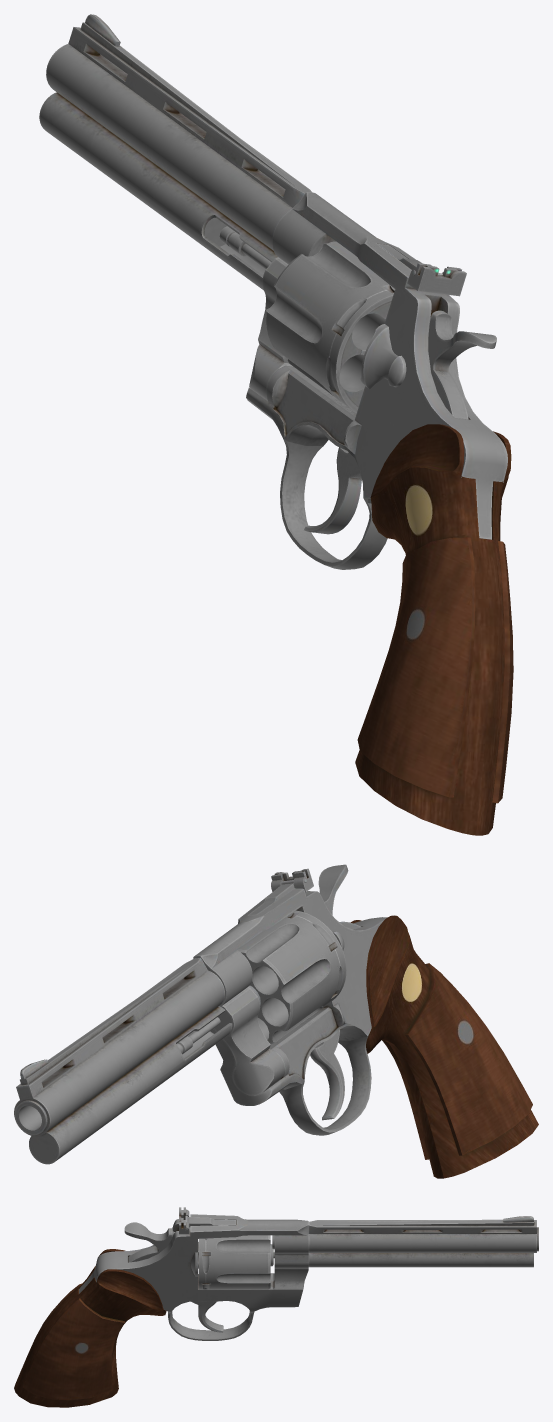
The picture shows the model from 3 angles, top to bottom: view 1: azimuth 30°, elevation 25°; view 2: azimuth 150°, elevation 25°; view 3: azimuth 270°, elevation 25°; orthographic projection. The views are drawn at different scales.
Parts seen in each view (by area): view 1: grip_low.001, barrel_low.001, body_low.001, wheel_low.001, Hammer_low.001, wheel_rot_low.001, trigger_low.001, slot_low.001, sight_low.001; view 2: grip_low.001, barrel_low.001, body_low.001, wheel_low.001, wheel_rot_low.001, trigger_low.001, Hammer_low.001, sight_low.001, handle_low.001, sight_fixed_low.001; view 3: grip_low.001, barrel_low.001, body_low.001, wheel_low.001, Hammer_low.001, trigger_low.001, sight_fixed_low.001, sight_low.001.
Boxes of the visible parts, x1,y1,x2,y2 form: grip_low.001: (355, 424, 513, 835); barrel_low.001: (39, 14, 311, 290); body_low.001: (246, 192, 507, 569); wheel_low.001: (265, 242, 395, 412); Hammer_low.001: (428, 310, 496, 419); wheel_rot_low.001: (249, 257, 292, 401); trigger_low.001: (304, 447, 361, 534); slot_low.001: (360, 324, 398, 389); sight_low.001: (407, 263, 466, 296); grip_low.001: (350, 915, 538, 1178); barrel_low.001: (14, 958, 232, 1164); body_low.001: (193, 888, 387, 1135); wheel_low.001: (238, 910, 346, 1044); wheel_rot_low.001: (214, 987, 285, 1095); trigger_low.001: (310, 1030, 344, 1120); Hammer_low.001: (318, 864, 360, 929); sight_low.001: (271, 868, 313, 892); handle_low.001: (176, 985, 260, 1054); sight_fixed_low.001: (248, 880, 294, 915); grip_low.001: (14, 1249, 166, 1407); barrel_low.001: (308, 1216, 538, 1267); body_low.001: (79, 1214, 308, 1340); wheel_low.001: (198, 1235, 270, 1289); Hammer_low.001: (124, 1222, 174, 1262); trigger_low.001: (191, 1301, 223, 1332); sight_fixed_low.001: (185, 1215, 236, 1227); sight_low.001: (179, 1207, 189, 1234).
Bounding box in the file's own units: 0.0669 × 0.1324 × 0.2894.
1 material, 1 textured.
